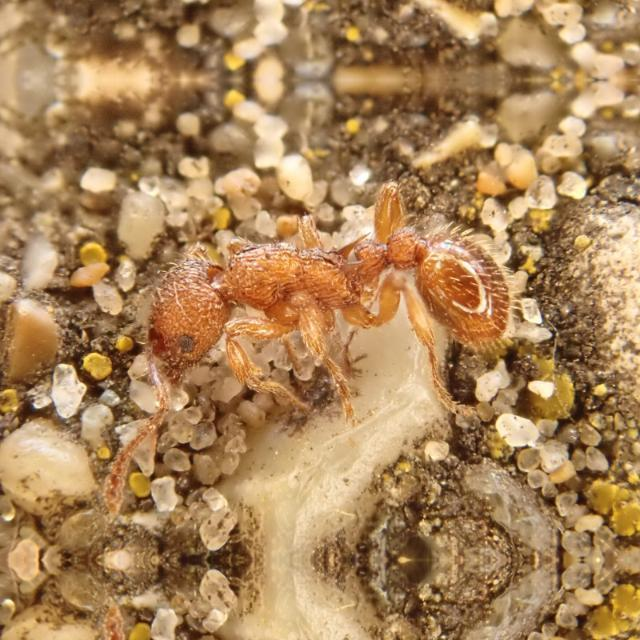Myrmica: (88, 142, 588, 468)
